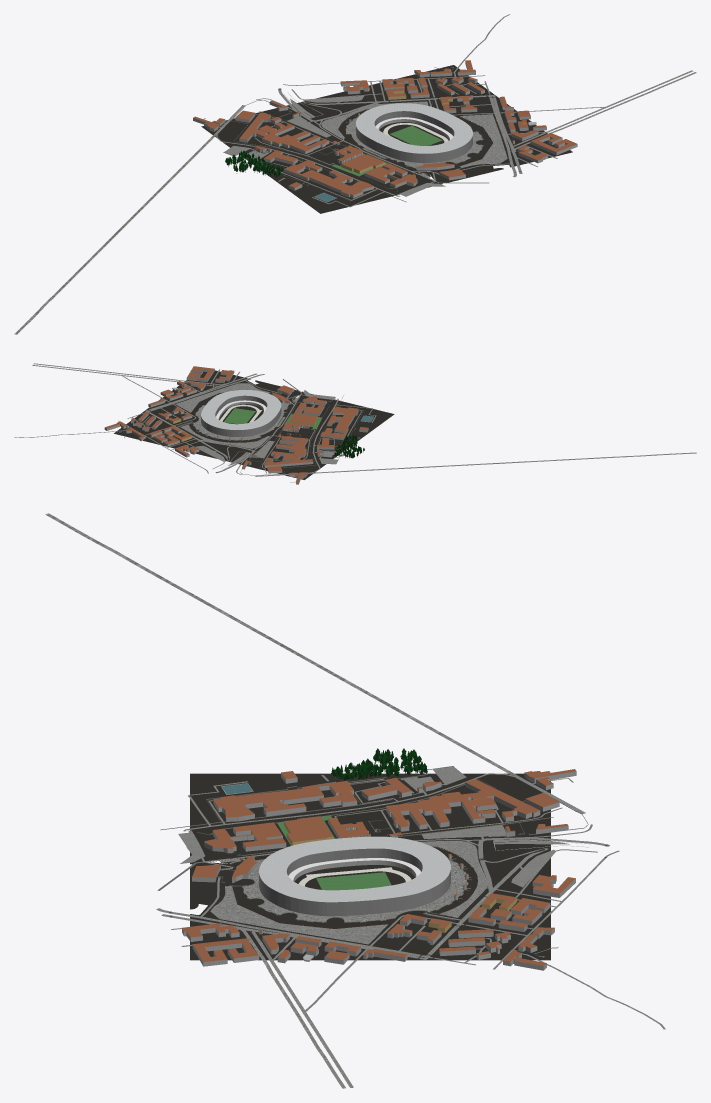
The model's file is maradona_demo.glb.
3 views of the same model, one above another, from view 1: azimuth 30°, elevation 25°; view 2: azimuth 150°, elevation 25°; view 3: azimuth 270°, elevation 25° (orthographic). The views are drawn at different scales.
Visible parts, largest first — view 1: SurfaceArea_w-112345, SurfaceArea_w-1, Naples_node_508, SurfaceArea_w-1123, SurfaceArea_w-11, Naples_node_509, SurfaceParking_w915551370, Naples_node_309, Forest_w225667612, Naples_node_273, RoadArea_r12427412, SurfaceArea_w-112 (+4 smaller); view 2: SurfaceArea_w-112345, SurfaceArea_w-1, Naples_node_508, SurfaceArea_w-1123, SurfaceArea_w-11, Naples_node_509, Naples_node_309, SurfaceParking_w915551370, RoadArea_r12427412, SurfaceArea_w-112, Naples_node_273, Forest_w225667612 (+11 smaller); view 3: SurfaceArea_w-112345, SurfaceArea_w-1, Naples_node_508, SurfaceArea_w-11, SurfaceArea_w-1123, Naples_node_509, SurfaceParking_w915551370, Naples_node_309, RoadArea_r12427412, Forest_w225667612, SurfaceArea_w-112, Naples_node_273 (+8 smaller).
Boxes of the visible parts, <box> form: SurfaceArea_w-112345: <box>254,141,431,213</box>; SurfaceArea_w-1: <box>201,101,354,164</box>; Naples_node_508: <box>356,103,472,153</box>; SurfaceArea_w-1123: <box>316,70,483,132</box>; SurfaceArea_w-11: <box>388,109,549,184</box>; Naples_node_509: <box>356,111,472,162</box>; SurfaceParking_w915551370: <box>460,114,507,167</box>; Naples_node_309: <box>14,105,245,334</box>; Forest_w225667612: <box>225,150,282,178</box>; Naples_node_273: <box>259,122,328,151</box>; RoadArea_r12427412: <box>346,117,482,168</box>; SurfaceArea_w-112: <box>431,65,500,109</box>; SurfaceArea_w-112345: <box>269,393,394,449</box>; SurfaceArea_w-1: <box>222,432,343,479</box>; Naples_node_508: <box>201,390,281,429</box>; SurfaceArea_w-1123: <box>131,408,242,458</box>; SurfaceArea_w-11: <box>171,372,304,424</box>; Naples_node_509: <box>201,395,281,436</box>; Naples_node_309: <box>255,452,696,476</box>; SurfaceParking_w915551370: <box>175,383,269,412</box>; RoadArea_r12427412: <box>193,402,288,440</box>; SurfaceArea_w-112: <box>114,405,170,437</box>; Naples_node_273: <box>271,436,307,459</box>; Forest_w225667612: <box>334,435,364,458</box>; SurfaceArea_w-112345: <box>190,773,390,858</box>; SurfaceArea_w-1: <box>390,773,550,858</box>; Naples_node_508: <box>259,836,450,902</box>; SurfaceArea_w-11: <box>190,858,390,943</box>; SurfaceArea_w-1123: <box>390,858,550,943</box>; Naples_node_509: <box>259,848,450,916</box>; SurfaceParking_w915551370: <box>210,886,387,944</box>; Naples_node_309: <box>45,513,585,814</box>; RoadArea_r12427412: <box>243,858,468,922</box>; Forest_w225667612: <box>331,748,427,781</box>; SurfaceArea_w-112: <box>390,943,550,960</box>; Naples_node_273: <box>386,795,495,827</box>.
Size of what is drawn, in the model's own units: 2037 by 26 by 929.
279 materials, 277 textured.
